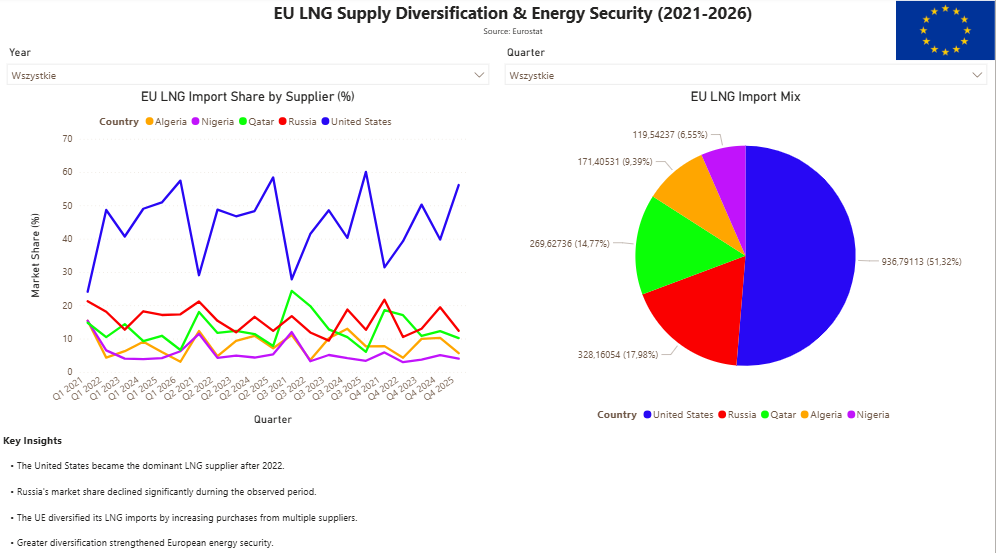

This screenshot's page, from the dashboard's own definition file:
{"tool":"powerbi","page":{"name":"Strona 1","canvas":[1280,720],"ordinal":0},"visuals":[{"type":"lineChart","title":"EU LNG Import Share by Supplier (%)","fields":{"Category":["eu_lng_import_mix_clean.Category"],"Y":["Sum(eu_lng_import_mix_clean.Share)"],"Series":["eu_lng_import_mix_clean.Country"]},"box":[33.4,118.2,571.9,436.9],"z":0},{"type":"slicer","fields":{"Values":["eu_lng_import_mix_clean.Year"]},"box":[0,57.8,640,59.1],"z":1000},{"type":"slicer","fields":{"Values":["eu_lng_import_mix_clean.Quarter"]},"box":[640,57.8,640,57.8],"z":1001},{"type":"pieChart","title":"EU LNG Import Mix","fields":{"Category":["eu_lng_import_mix_clean.Country"],"Y":["Sum(eu_lng_import_mix_clean.Share)"]},"box":[650.3,118.2,618.2,436.9],"z":1002},{"type":"textbox","box":[0,555.2,1280,164.5],"z":1003},{"type":"textbox","box":[88.7,0,1143.8,57.8],"z":1004},{"type":"image","box":[1152.8,0,127.2,86.1],"z":1005}]}

Visuals, with their boxes in screenshot pixels (x1, y1, x2, y2), scaled from the page's 1280x720 canvas onto the 996x553 screenshot:
"EU LNG Import Share by Supplier (%)" lineChart: (left=26, top=91, right=471, bottom=426)
slicer - eu_lng_import_mix_clean.Year: (left=0, top=44, right=498, bottom=90)
slicer - eu_lng_import_mix_clean.Quarter: (left=498, top=44, right=995, bottom=89)
"EU LNG Import Mix" pieChart: (left=506, top=91, right=987, bottom=426)
textbox: (left=0, top=426, right=995, bottom=552)
textbox: (left=69, top=0, right=959, bottom=44)
image: (left=897, top=0, right=995, bottom=66)
